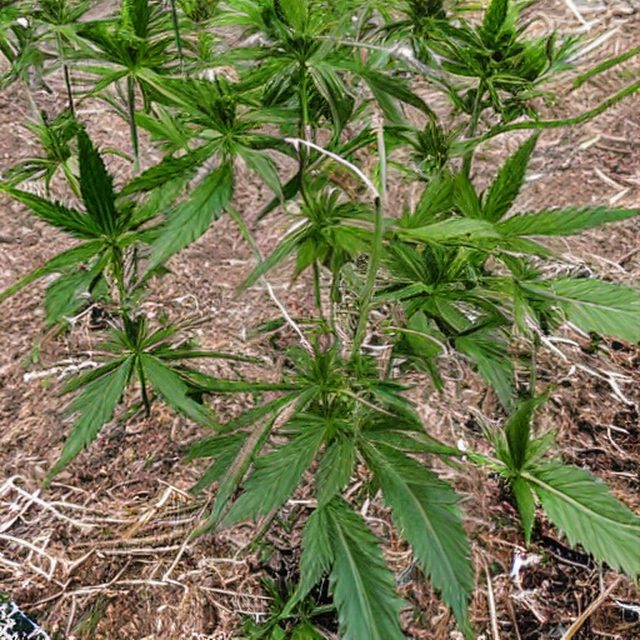Marijuana Plant: (0, 0, 640, 639), (144, 28, 640, 639)
